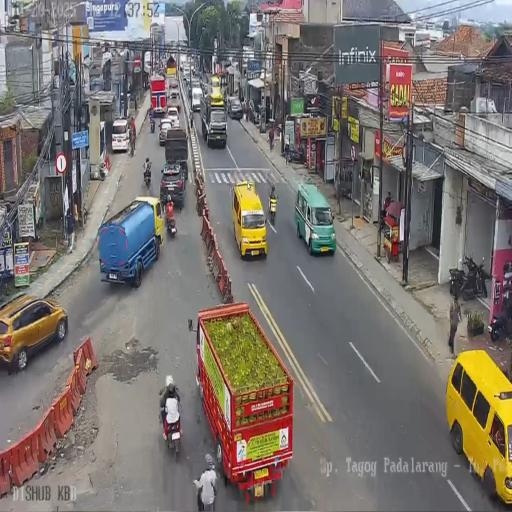3: (194, 301, 292, 499), (98, 197, 164, 286), (200, 95, 227, 149), (163, 128, 188, 178), (148, 72, 166, 116), (166, 80, 180, 110), (144, 51, 152, 74)
car: (446, 348, 512, 504), (1, 291, 68, 368), (294, 180, 334, 256), (231, 179, 267, 260), (111, 118, 132, 153), (226, 96, 243, 120), (191, 87, 203, 113), (166, 106, 180, 128), (182, 66, 191, 82), (202, 82, 208, 97), (191, 66, 196, 77)
truck: (448, 252, 489, 301), (162, 395, 183, 459), (488, 304, 510, 342), (286, 143, 303, 164), (268, 195, 277, 225), (143, 164, 152, 190), (276, 120, 282, 138), (150, 116, 155, 133)
